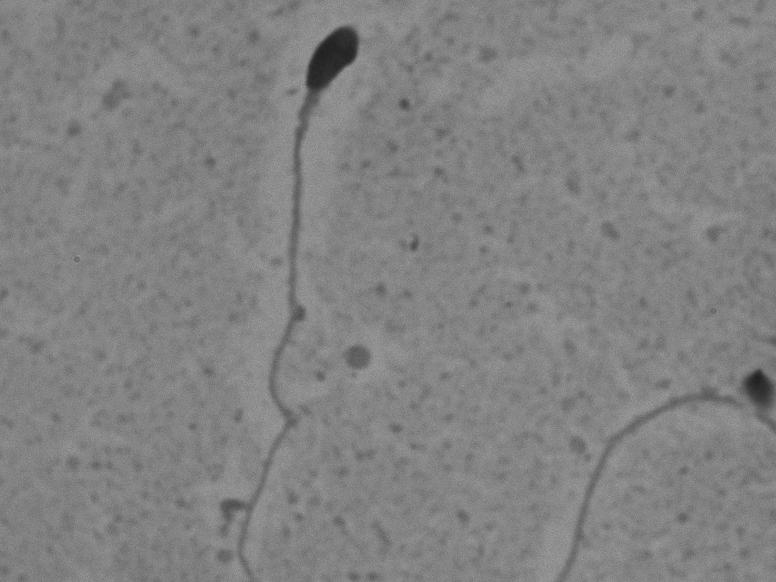Abnormal: (197, 18, 407, 571)
